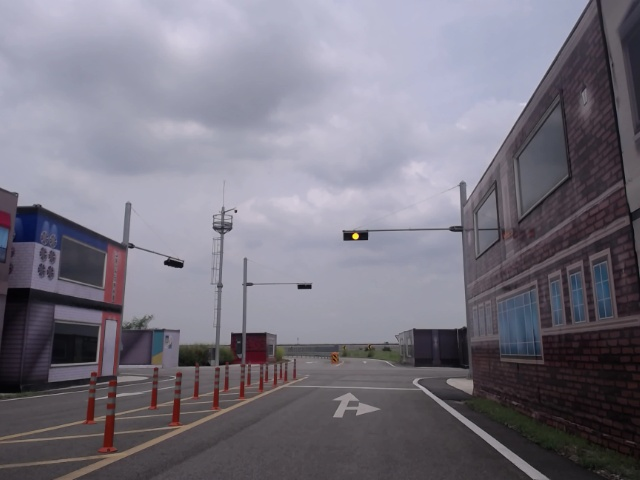orange_3: (343, 230, 368, 240)
